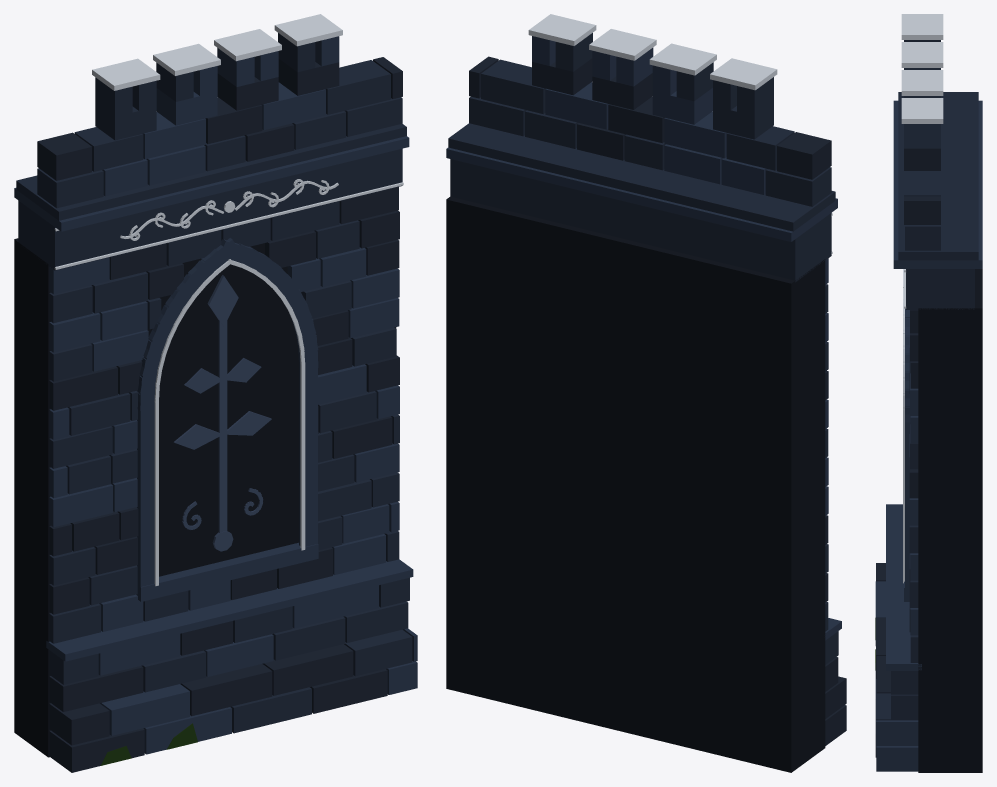
File: Rempart_P2_Travee_A.fbx
3 views of the same model, side by side, from view 1: azimuth 30°, elevation 25°; view 2: azimuth 150°, elevation 25°; view 3: azimuth 270°, elevation 25° (orthographic). The views are drawn at different scales.
Visible parts, largest first — view 1: P2_Travee_A_PierreA, P2_Travee_A_PierreB, P2_Travee_A_Joint, P2_Travee_A_PierreC, P2_Travee_A_Argent, P2_Travee_A_Gravure, P2_Travee_A_Mousse; view 2: P2_Travee_A_Joint, P2_Travee_A_PierreA, P2_Travee_A_PierreB, P2_Travee_A_PierreC, P2_Travee_A_Argent; view 3: P2_Travee_A_Joint, P2_Travee_A_PierreA, P2_Travee_A_PierreB, P2_Travee_A_Argent, P2_Travee_A_PierreC.
Boxes of the visible parts, box(x1,y1,x2,y2) form: P2_Travee_A_PierreA: box(16, 33, 412, 733); P2_Travee_A_PierreB: box(14, 36, 417, 754); P2_Travee_A_Joint: box(14, 238, 396, 757); P2_Travee_A_PierreC: box(37, 57, 402, 772); P2_Travee_A_Argent: box(54, 14, 403, 586); P2_Travee_A_Gravure: box(174, 275, 271, 551); P2_Travee_A_Mousse: box(100, 723, 197, 765); P2_Travee_A_Joint: box(446, 196, 825, 772); P2_Travee_A_PierreA: box(448, 33, 838, 664); P2_Travee_A_PierreB: box(446, 36, 841, 640); P2_Travee_A_PierreC: box(469, 56, 846, 745); P2_Travee_A_Argent: box(528, 14, 832, 254); P2_Travee_A_Joint: box(918, 269, 982, 772); P2_Travee_A_PierreA: box(875, 40, 978, 720); P2_Travee_A_PierreB: box(875, 68, 982, 771); P2_Travee_A_Argent: box(901, 14, 943, 583); P2_Travee_A_PierreC: box(875, 148, 940, 757).
Size of the model in its own units: 20 by 36.48 by 5.66.
